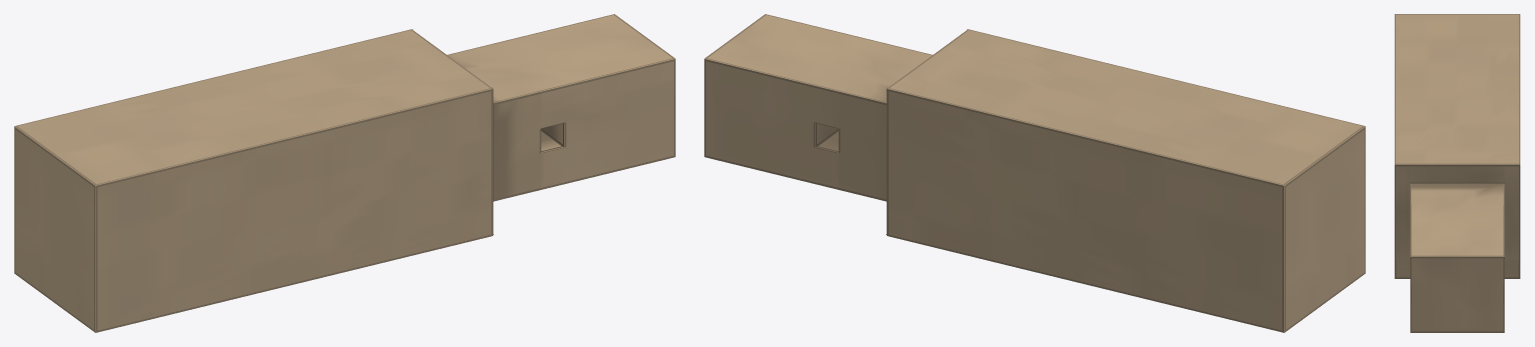
3 renders of one model, left to right at view 1: azimuth 30°, elevation 25°; view 2: azimuth 150°, elevation 25°; view 3: azimuth 270°, elevation 25°, orthographic. The views are drawn at different scales.
Visible parts, largest first — view 1: part-b; view 2: part-b; view 3: part-b.
Part boxes in pixels (bbox=[...]): part-b: bbox=[14, 14, 675, 332]; part-b: bbox=[704, 14, 1365, 332]; part-b: bbox=[1394, 14, 1520, 332].
Bounding box in the file's own units: 0.5058 × 0.1212 × 0.1208.
